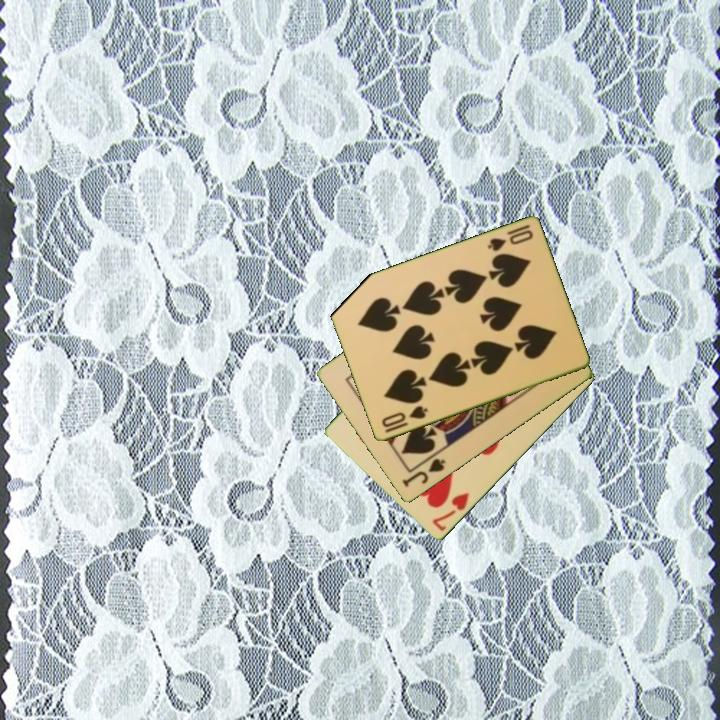10s: (484, 221, 536, 255), (378, 402, 431, 431)
7h: (429, 489, 472, 535)
Js: (399, 455, 448, 490)
